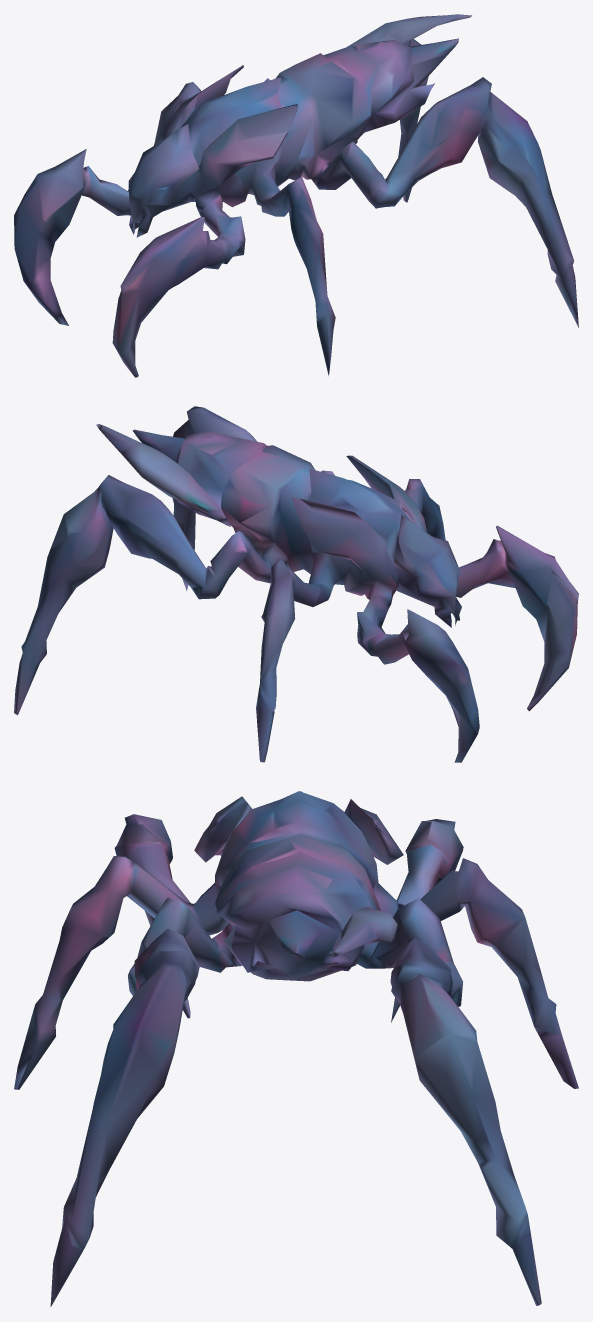
The model's file is Skitter_game.glb.
3 renders of one model, top to bottom at view 1: azimuth 30°, elevation 25°; view 2: azimuth 150°, elevation 25°; view 3: azimuth 270°, elevation 25°, orthographic. The views are drawn at different scales.
Parts seen in each view (by area): view 1: Skitter; view 2: Skitter; view 3: Skitter.
Boxes of the visible parts, left/top/right/bottom form: Skitter: left=14, top=14, right=578, bottom=377; Skitter: left=14, top=406, right=578, bottom=762; Skitter: left=14, top=791, right=578, bottom=1306.
Bounding box in the file's own units: 0.9097 × 0.4944 × 0.7241.
